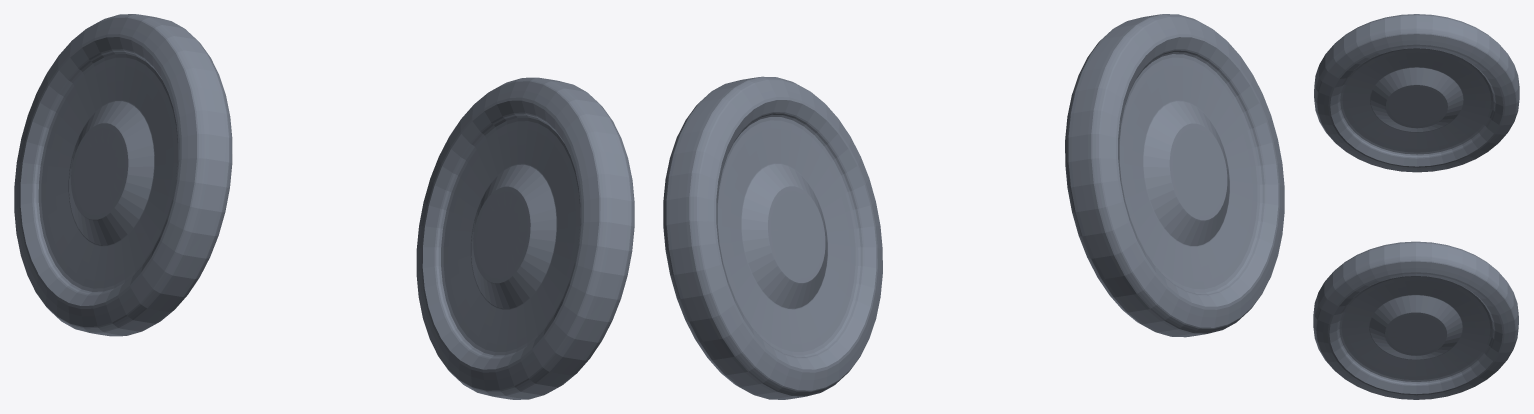
Rendered from weight_3_1.obj.
3 renders of one model, left to right at view 1: azimuth 30°, elevation 25°; view 2: azimuth 150°, elevation 25°; view 3: azimuth 270°, elevation 25°, orthographic. The views are drawn at different scales.
Bounding box in the file's own units: 0.8785 × 0.6964 × 0.4616.
